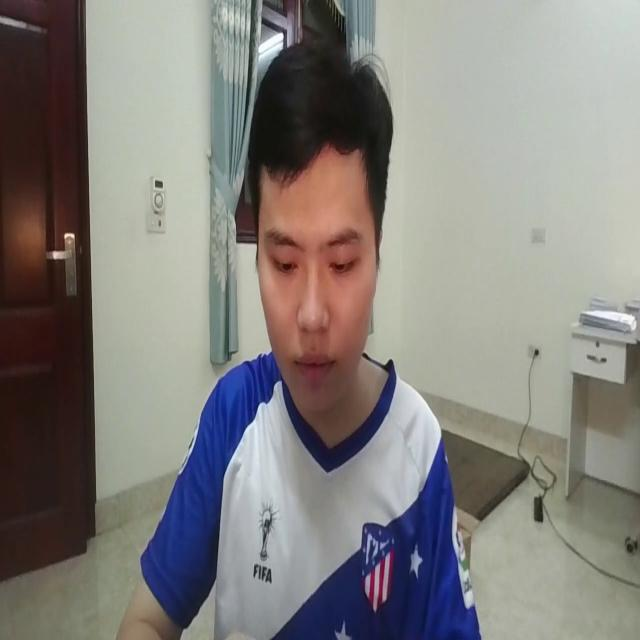student: (101, 42, 486, 640)
